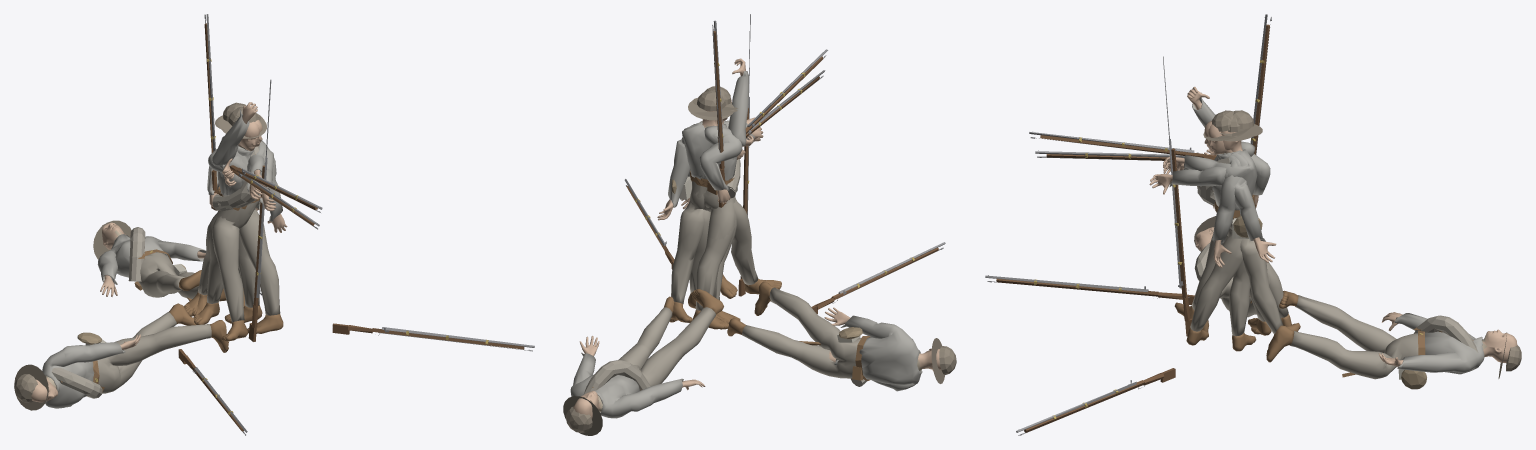
Rendered from csa_a_mid.fbx.
3 views of the same model, side by side, from view 1: azimuth 30°, elevation 25°; view 2: azimuth 150°, elevation 25°; view 3: azimuth 270°, elevation 25° (orthographic). The views are drawn at different scales.
Parts seen in each view (by area): view 1: pose_fallen_side, pose_fallen_back, pose_reload_rod, pose_march_a, pose_march_b, pose_aim, pose_fire; view 2: pose_fallen_side, pose_fallen_back, pose_march_b, pose_march_a, pose_reload_rod, pose_fire, pose_aim; view 3: pose_fallen_back, pose_march_a, pose_march_b, pose_reload_rod, pose_aim, pose_fire, pose_fallen_side.
Part boxes in pixels (x1,y1,x2,y2): pose_fallen_side: [14, 303, 534, 410]; pose_fallen_back: [93, 220, 247, 435]; pose_reload_rod: [193, 79, 276, 341]; pose_march_a: [184, 14, 287, 333]; pose_march_b: [207, 117, 265, 341]; pose_aim: [192, 106, 319, 320]; pose_fire: [194, 102, 322, 323]; pose_fallen_side: [624, 179, 956, 391]; pose_fallen_back: [563, 242, 945, 435]; pose_march_b: [657, 91, 781, 322]; pose_march_a: [672, 20, 742, 329]; pose_reload_rod: [690, 14, 760, 321]; pose_fire: [682, 49, 827, 257]; pose_aim: [684, 70, 825, 323]; pose_fallen_back: [985, 275, 1521, 389]; pose_march_a: [1186, 14, 1291, 345]; pose_march_b: [1174, 116, 1300, 334]; pose_reload_rod: [1149, 56, 1271, 349]; pose_aim: [1035, 110, 1269, 351]; pose_fire: [1029, 110, 1282, 335]; pose_fallen_side: [1016, 216, 1261, 435].
Bounding box in the file's own units: 3.32 × 2.56 × 3.47.
